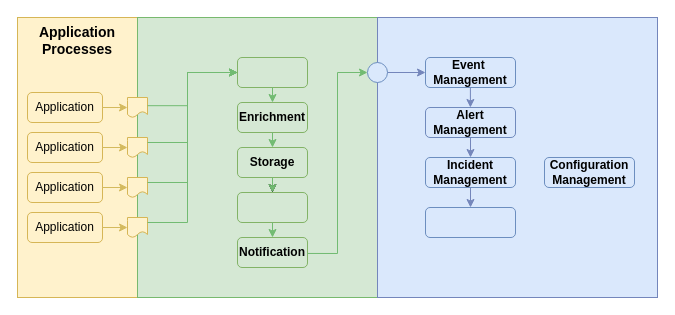
Image size: 675x315. Some labels were removed from this diagram. Each missing label, with the box of its shape:
API: (366, 62, 388, 82)
Correlation: (236, 192, 308, 222)
Ingestion: (236, 56, 308, 88)
Observability Process: (136, 16, 378, 298)
Problem Management: (424, 206, 516, 238)
Service Management: (376, 16, 658, 298)
